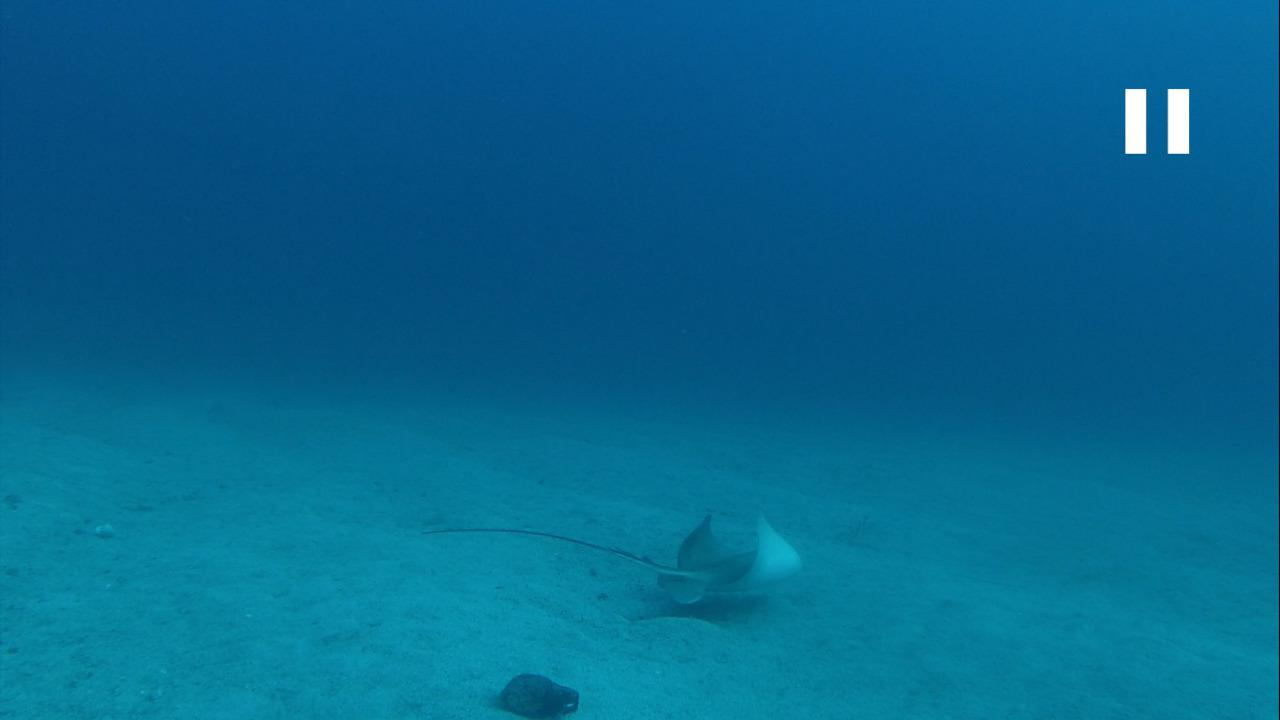myliobatis: (420, 504, 799, 617)
